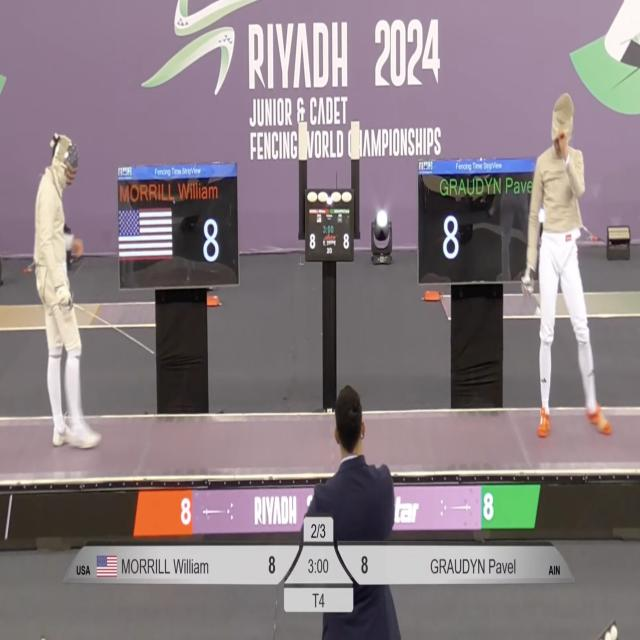fencer: (526, 96, 613, 448), (25, 129, 104, 454)
overlayLeft: (63, 542, 251, 586)
overlayRight: (377, 544, 576, 584)
scoreLeft: (256, 547, 303, 583)
scoreRight: (335, 546, 374, 583)
